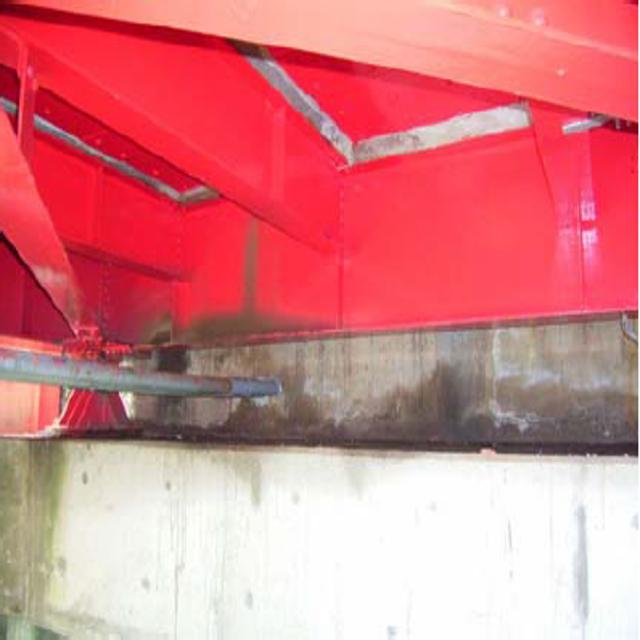leakage: (153, 333, 638, 471)
